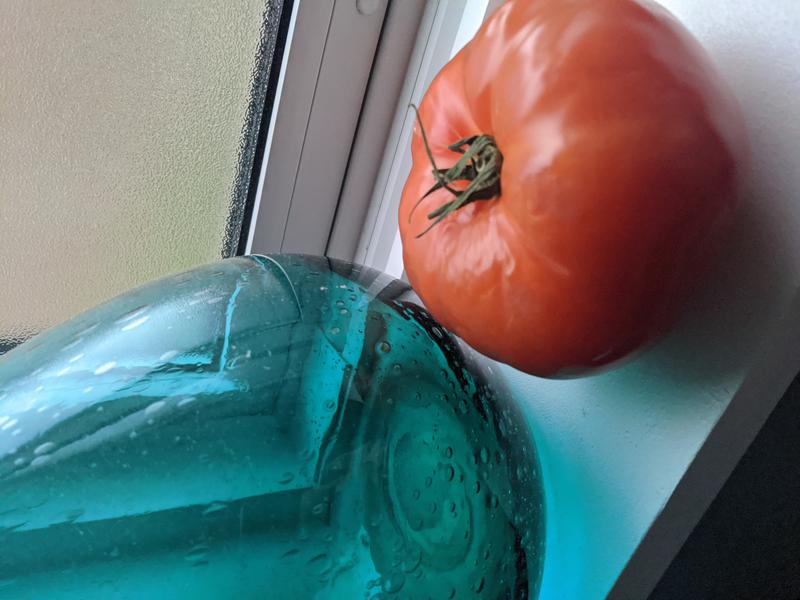tomato: (397, 1, 739, 381)
